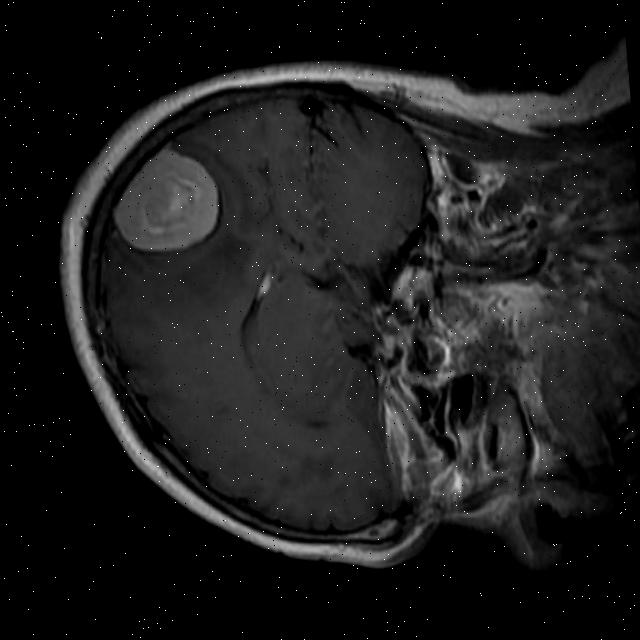Meningioma: (106, 142, 224, 255)
